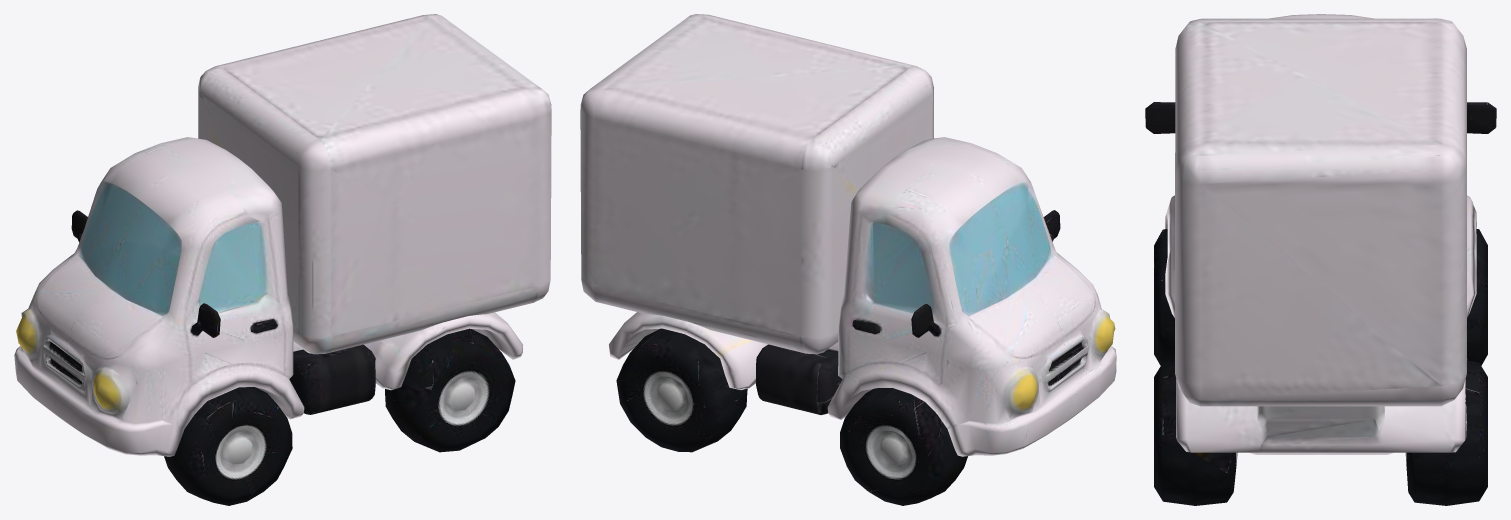
Rendered from truck.glb.
3 views of the same model, side by side, from view 1: azimuth 30°, elevation 25°; view 2: azimuth 150°, elevation 25°; view 3: azimuth 270°, elevation 25° (orthographic). The views are drawn at different scales.
Bounding box in the file's own units: 0.958 × 0.6816 × 0.5415.
1 material, 1 textured.
